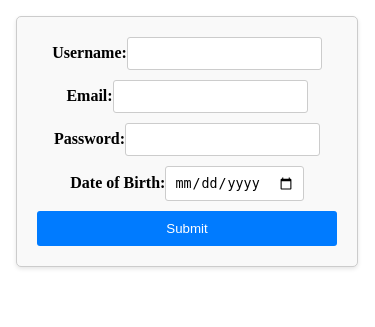
Test: Registration form validation › should display validation error for short password
Type "somename" into the field named "username" next to "Username:".
click(225, 54); type("somename")  # box [127,37,322,70]
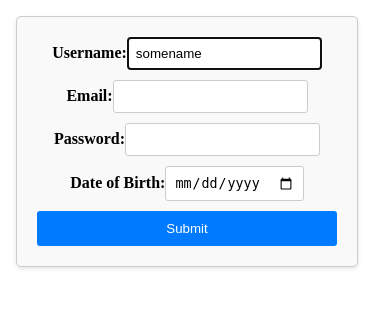
Type "somename@gmail.com" into the field named "email" next to "Email:".
click(211, 97); type("somename@gmail.com")  # box [113,80,308,113]
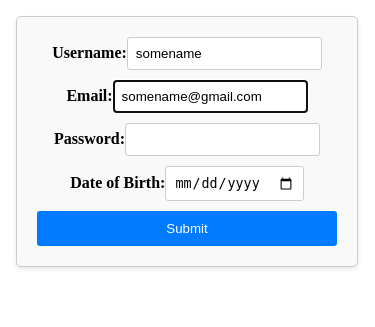
Type "123" into the password field named "password".
click(223, 140); type("123")  # box [125,123,320,156]
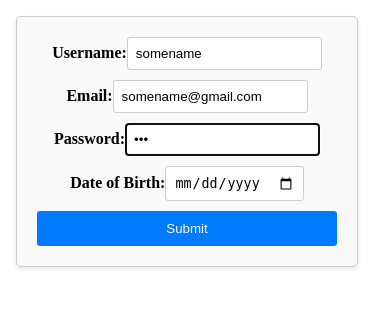
Type "1994-01-01" into the date field named "dob".
click(234, 184); type("1994-01-01")  # box [165,166,303,201]
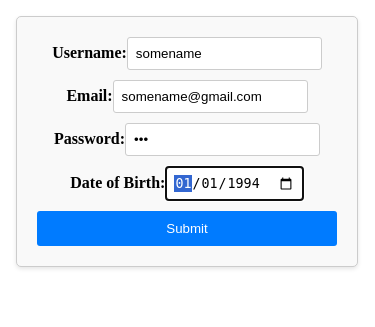
Click the button "Submit".
click(187, 229)  # box [37,211,337,246]
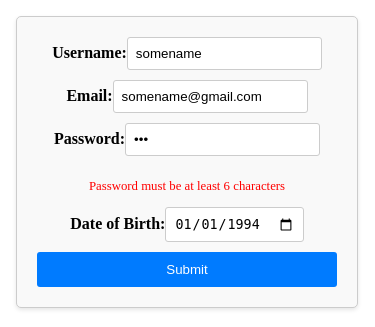
Check: the text with class "error" reads "Password must be at least 6 characters", box [89,179,285,193]
